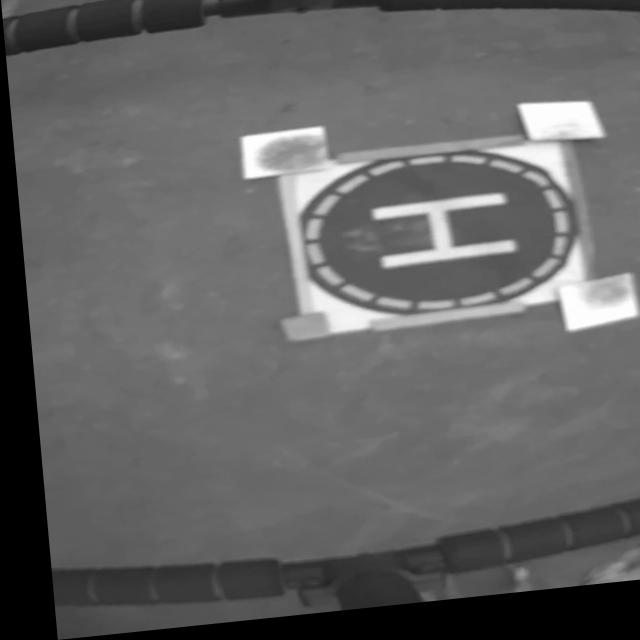Helipad: (365, 201, 515, 279)
